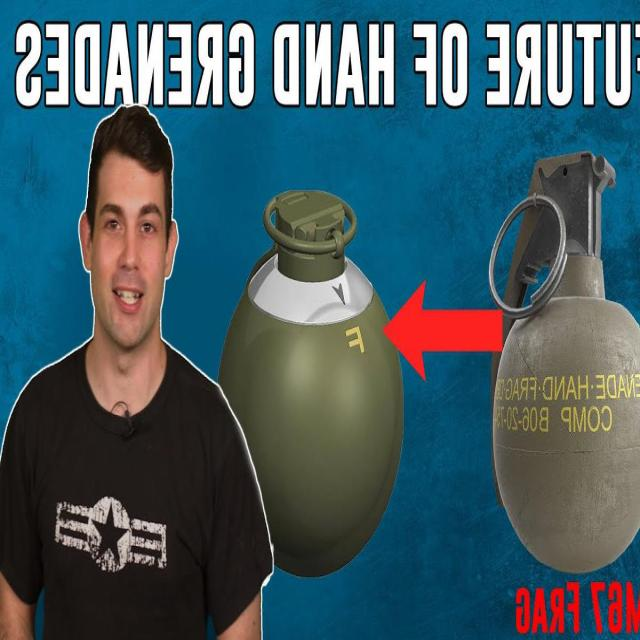grenade: (219, 193, 405, 584), (492, 152, 640, 576)
